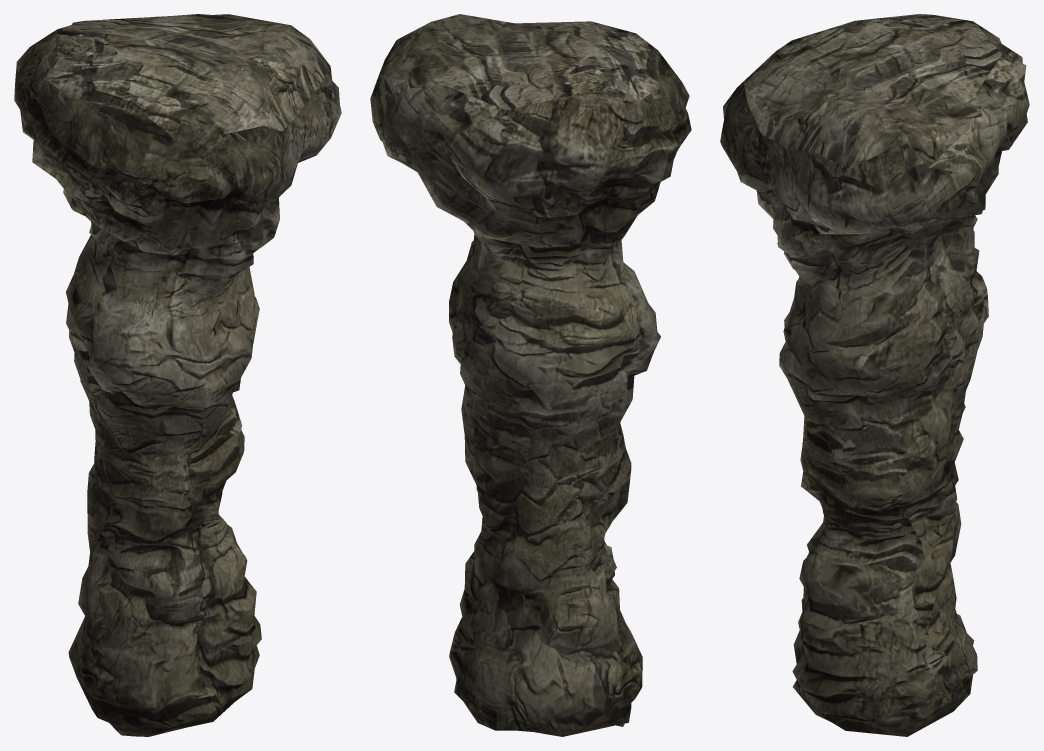
Rendered from MEP_Cliff_03.fbx.
3 views of the same model, side by side, from view 1: azimuth 30°, elevation 25°; view 2: azimuth 150°, elevation 25°; view 3: azimuth 270°, elevation 25° (orthographic). The views are drawn at different scales.
Visible parts, largest first — view 1: MEP_Desert_Cliff_03_N; view 2: MEP_Desert_Cliff_03_N; view 3: MEP_Desert_Cliff_03_N.
Part boxes in pixels (x1,y1,x2,y2): MEP_Desert_Cliff_03_N: (14,14,341,736); MEP_Desert_Cliff_03_N: (370,14,691,736); MEP_Desert_Cliff_03_N: (720,14,1029,736).
Size of what is drawn, in the model's own units: 1123 by 2496 by 1044.
1 material, 1 textured.
